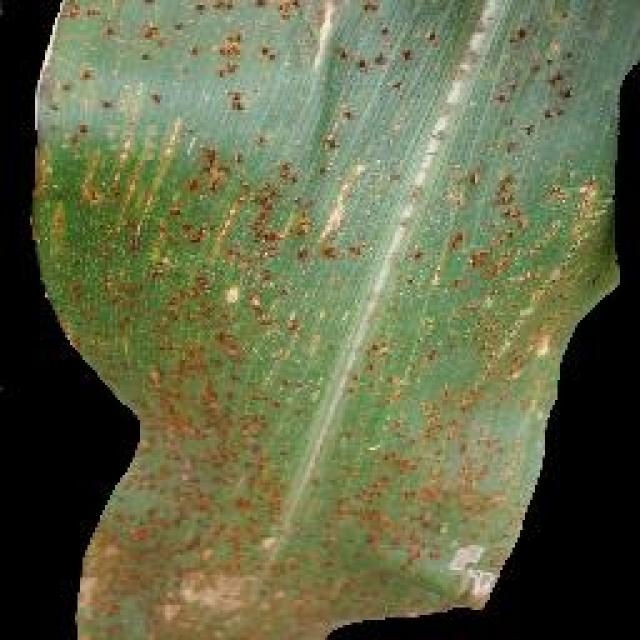Corn___Common_rust: (58, 180, 590, 640)
